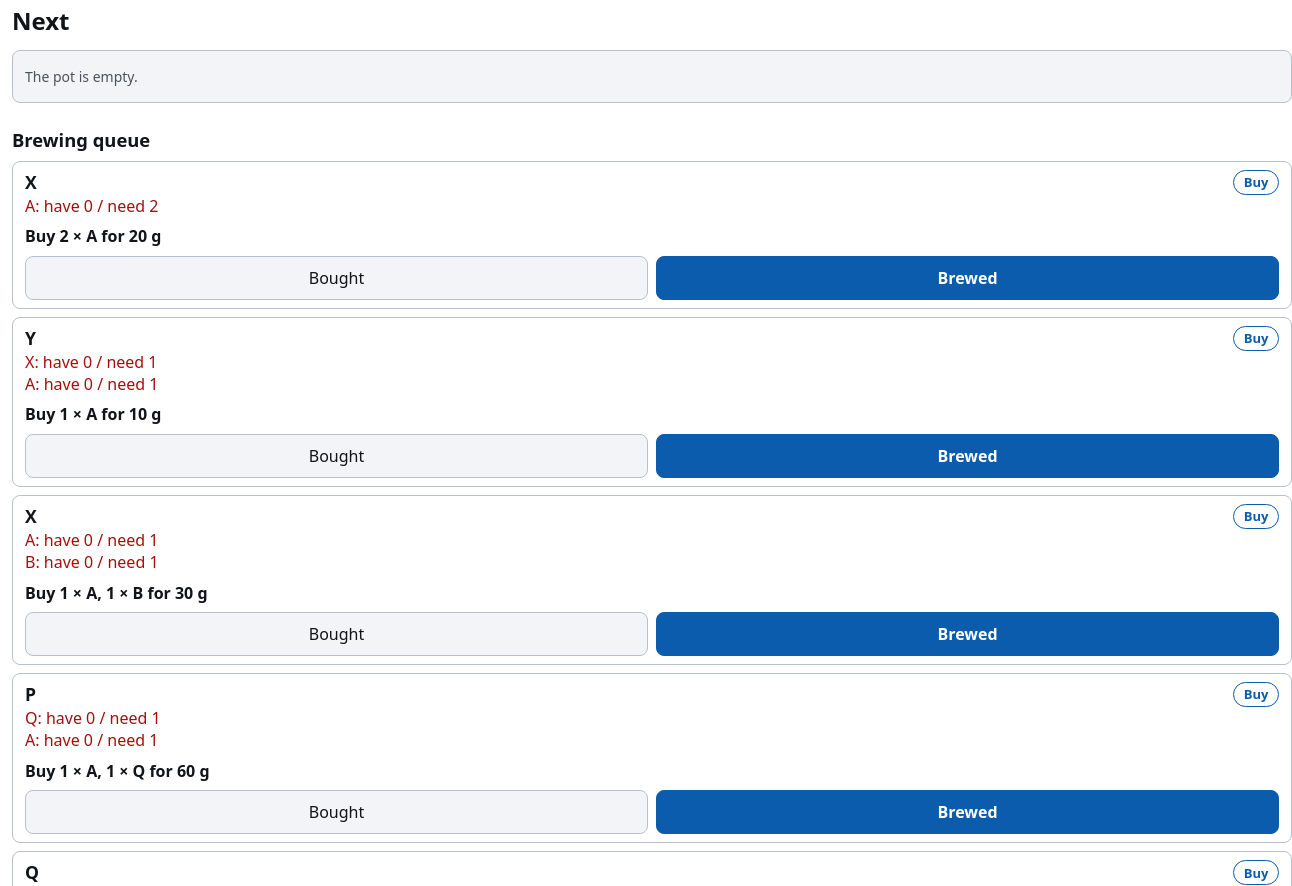
Test: Next › Brewed without Bought shows the error inline and changes nothing
Click the button with aria-label "Brewed X": x=968, y=278 [656,256,1279,300]
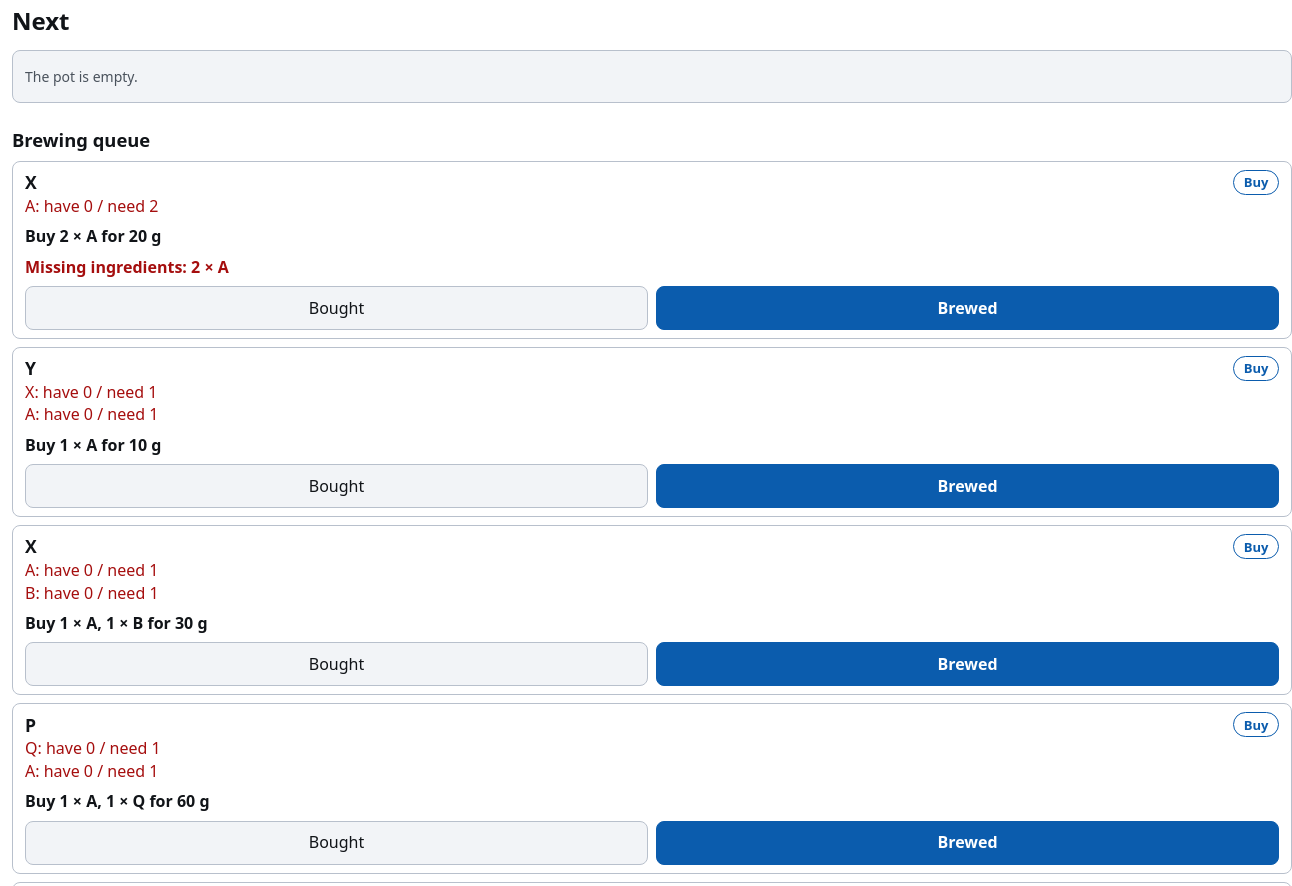
Expected: the message shows "Missing ingredients", [25,256,229,278]
